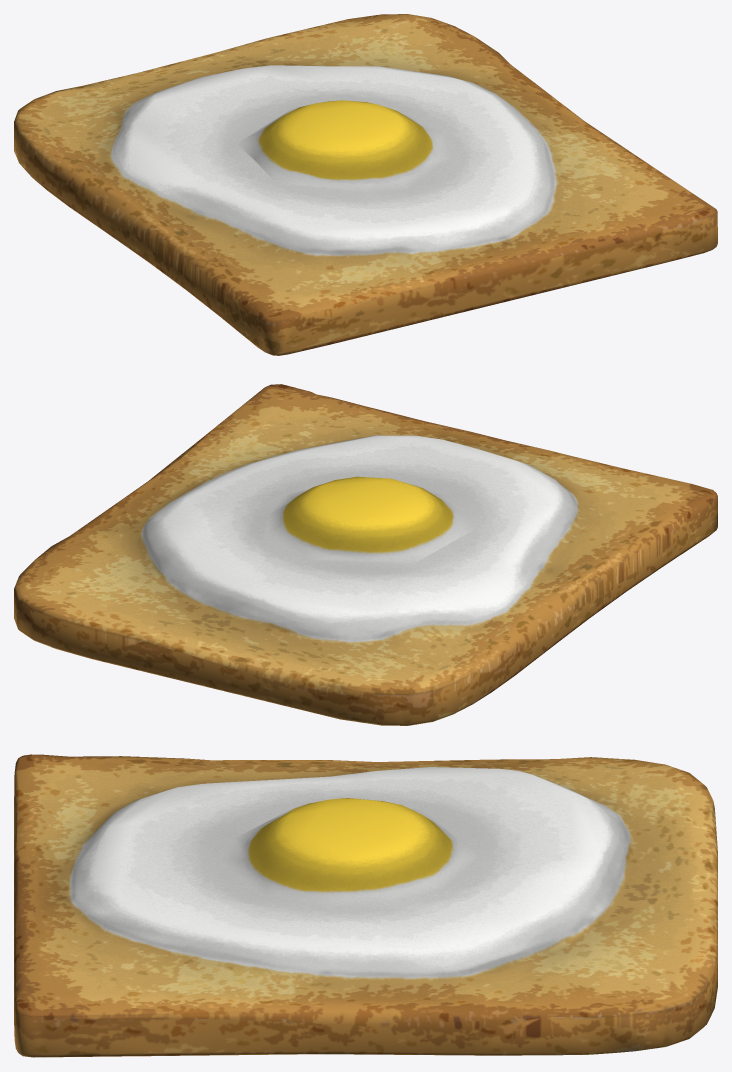
File: s_eggandtoast_01.fbx
3 renders of one model, top to bottom at view 1: azimuth 30°, elevation 25°; view 2: azimuth 150°, elevation 25°; view 3: azimuth 270°, elevation 25°, orthographic. The views are drawn at different scales.
Parts seen in each view (by area): view 1: s_eggontoast_01; view 2: s_eggontoast_01; view 3: s_eggontoast_01.
Part boxes in pixels (<box>): s_eggontoast_01: <box>14,14,717,355</box>; s_eggontoast_01: <box>14,384,717,725</box>; s_eggontoast_01: <box>14,754,717,1057</box>.
Size of the model in its own units: 40.03 by 6.96 by 45.31.
